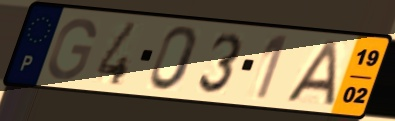0: (147, 24, 201, 93)
1: (252, 32, 290, 103)
3: (196, 31, 245, 96)
4: (93, 19, 138, 88)
A: (283, 38, 340, 107)
G: (45, 16, 98, 83)
